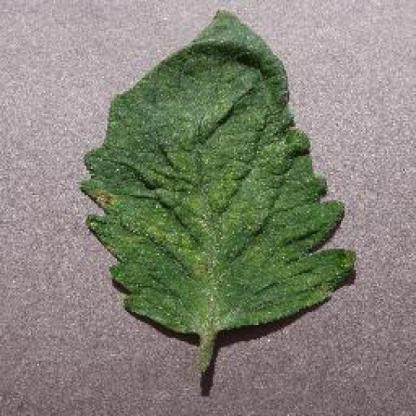Tomato_Spider_Mites: (83, 13, 354, 332)
